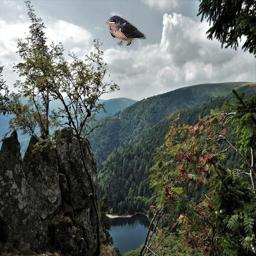Swallow: (106, 15, 146, 46)
